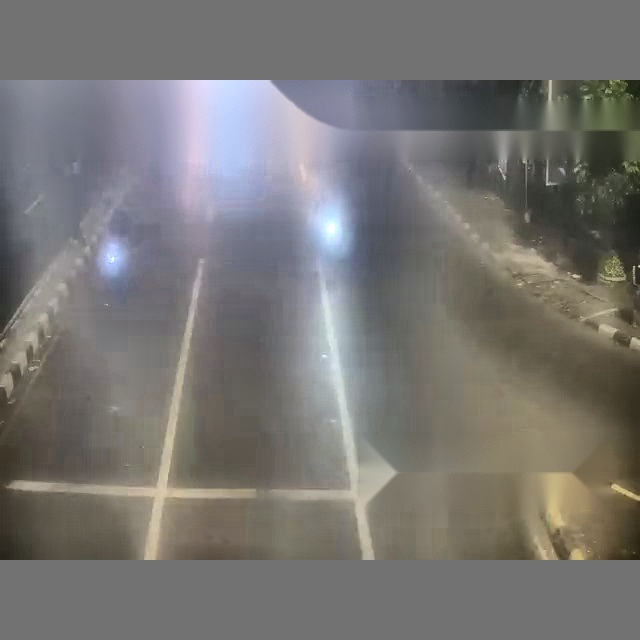Motor: (95, 235, 130, 308)
